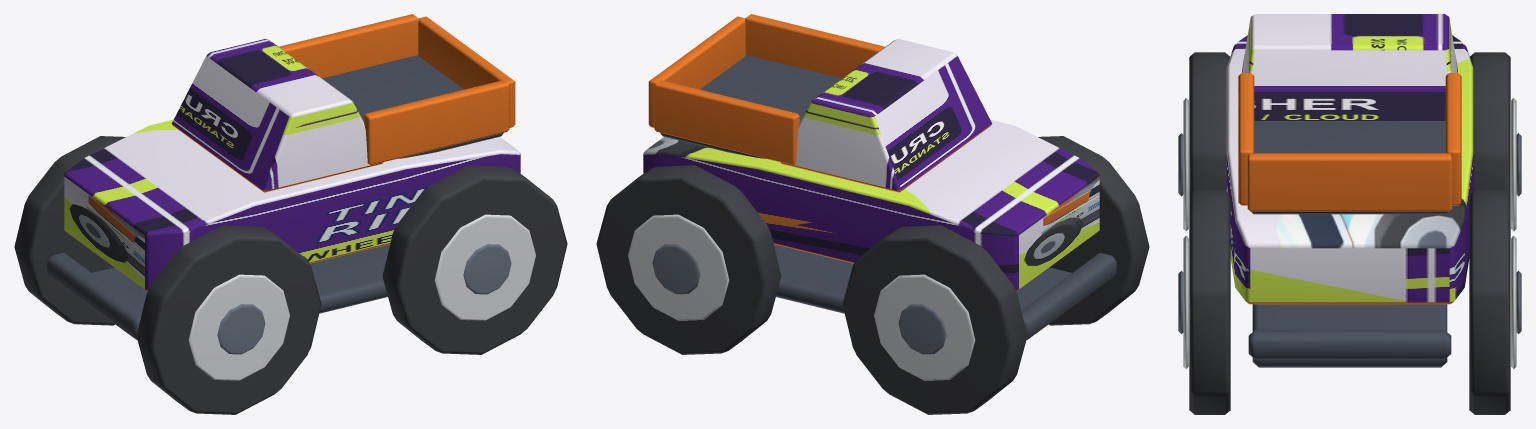
3 renders of one model, left to right at view 1: azimuth 30°, elevation 25°; view 2: azimuth 150°, elevation 25°; view 3: azimuth 270°, elevation 25°, orthographic. The views are drawn at different scales.
Visible parts, largest first — view 1: BW-01_connected_shell, BW-01_cabin, Tire, Tire.002, Tire.001, cargo side, Rim, Rim.002, cargo side.001, cargo floor, underbody, cargo tail (+3 smaller); view 2: BW-01_connected_shell, BW-01_cabin, Tire.001, Tire.003, Tire, cargo side.001, Rim.001, Rim.003, cargo side, cargo floor, underbody, cargo tail (+3 smaller); view 3: BW-01_connected_shell, BW-01_cabin, cargo tail, Tire.002, Tire.003, cargo floor, underbody, rear bumper, Tire, Tire.001, cargo side, cargo side.001 (+8 smaller).
Boxes of the visible parts, left/top/right/bottom form: BW-01_connected_shell: left=64, top=119, right=520, bottom=291; BW-01_cabin: left=171, top=38, right=382, bottom=192; Tire: left=136, top=225, right=321, bottom=414; Tire.002: left=382, top=165, right=567, bottom=354; Tire.001: left=14, top=136, right=125, bottom=325; cargo side: left=364, top=80, right=509, bottom=165; Rim: left=188, top=274, right=289, bottom=380; Rim.002: left=434, top=214, right=535, bottom=320; cargo side.001: left=279, top=14, right=418, bottom=78; cargo floor: left=322, top=55, right=503, bottom=158; underbody: left=92, top=244, right=389, bottom=313; cargo tail: left=418, top=16, right=515, bottom=127; BW-01_connected_shell: left=643, top=119, right=1099, bottom=291; BW-01_cabin: left=781, top=38, right=992, bottom=192; Tire.001: left=842, top=225, right=1027, bottom=414; Tire.003: left=596, top=165, right=781, bottom=354; Tire: left=1038, top=136, right=1149, bottom=325; cargo side.001: left=654, top=80, right=799, bottom=165; Rim.001: left=874, top=274, right=975, bottom=380; Rim.003: left=628, top=214, right=729, bottom=320; cargo side: left=745, top=14, right=884, bottom=78; cargo floor: left=660, top=55, right=841, bottom=158; underbody: left=774, top=244, right=1071, bottom=313; cargo tail: left=648, top=16, right=745, bottom=127; BW-01_connected_shell: left=1226, top=35, right=1473, bottom=304; BW-01_cabin: left=1242, top=14, right=1457, bottom=120; cargo tail: left=1247, top=153, right=1452, bottom=211; Tire.002: left=1189, top=190, right=1230, bottom=414; Tire.003: left=1469, top=190, right=1510, bottom=414; cargo floor: left=1251, top=121, right=1448, bottom=214; underbody: left=1252, top=304, right=1447, bottom=367; rear bumper: left=1248, top=330, right=1451, bottom=359; Tire: left=1189, top=52, right=1229, bottom=194; Tire.001: left=1470, top=52, right=1510, bottom=194; cargo side: left=1238, top=73, right=1254, bottom=205; cargo side.001: left=1445, top=73, right=1461, bottom=205.
Size of the model in its own units: 350 by 210 by 217.
